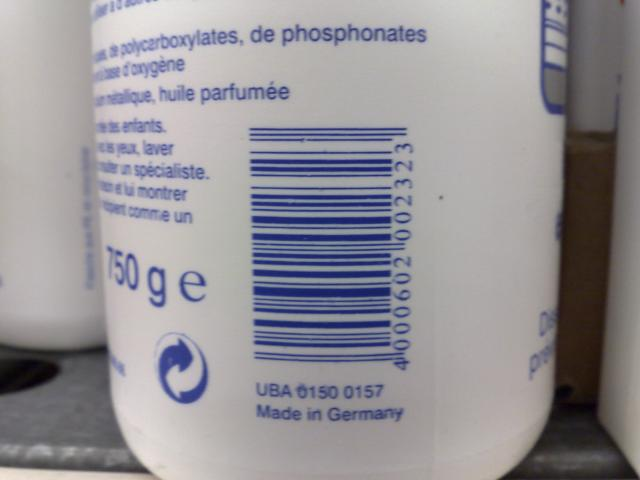Barkod: (248, 124, 394, 360)
